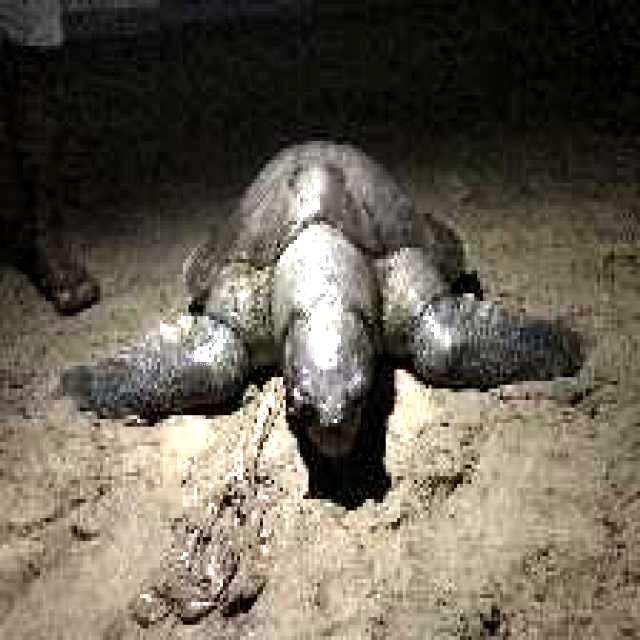Sea turtle: (67, 131, 591, 471)
